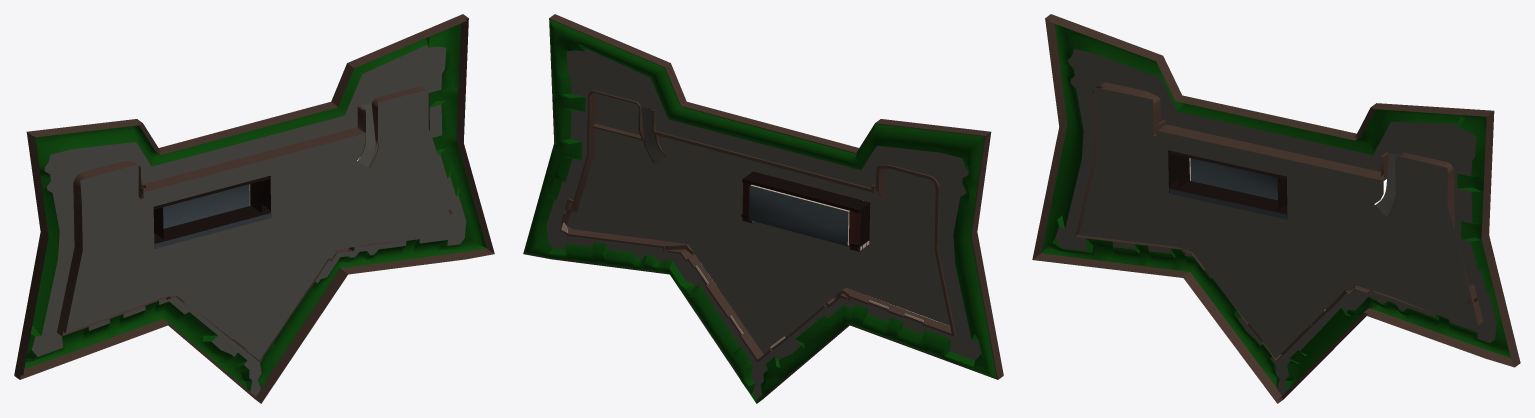
Rendered from Citadel_Test1.dae.
3 views of the same model, side by side, from view 1: azimuth 30°, elevation 25°; view 2: azimuth 150°, elevation 25°; view 3: azimuth 330°, elevation 25° (orthographic).
Visible parts, largest first — view 1: Mesh, Grass_Upper, Ground_Upper, Wall_Outer, WallGreen, Cavalier, Ramp; view 2: Mesh, Grass_Upper, Ground_Upper, WallGreen, Cavalier, Wall_Outer, Ramp, Stairs; view 3: Mesh, Grass_Upper, Ground_Upper, Wall_Outer, WallGreen, Cavalier, Ramp.
Boxes of the visible parts, x1,y1,x2,y2 form: Mesh: (66, 90, 460, 360); Grass_Upper: (24, 23, 486, 391); Ground_Upper: (32, 44, 466, 396); Wall_Outer: (14, 14, 494, 403); WallGreen: (57, 87, 429, 361); Cavalier: (153, 175, 271, 248); Ramp: (357, 99, 378, 167); Mesh: (566, 93, 949, 354); Grass_Upper: (524, 19, 996, 403); Ground_Upper: (546, 48, 981, 398); WallGreen: (560, 90, 955, 362); Cavalier: (741, 171, 870, 251); Wall_Outer: (523, 14, 1003, 403); Ramp: (638, 102, 666, 163); Stairs: (566, 187, 875, 297); Mesh: (1079, 87, 1479, 358); Grass_Upper: (1041, 24, 1510, 389); Ground_Upper: (1055, 49, 1496, 395); Wall_Outer: (1032, 14, 1520, 403); WallGreen: (1075, 82, 1483, 360); Cavalier: (1168, 150, 1287, 219); Ramp: (1375, 152, 1403, 217).
Bounding box in the file's own units: 254 × 15.4 × 171.
